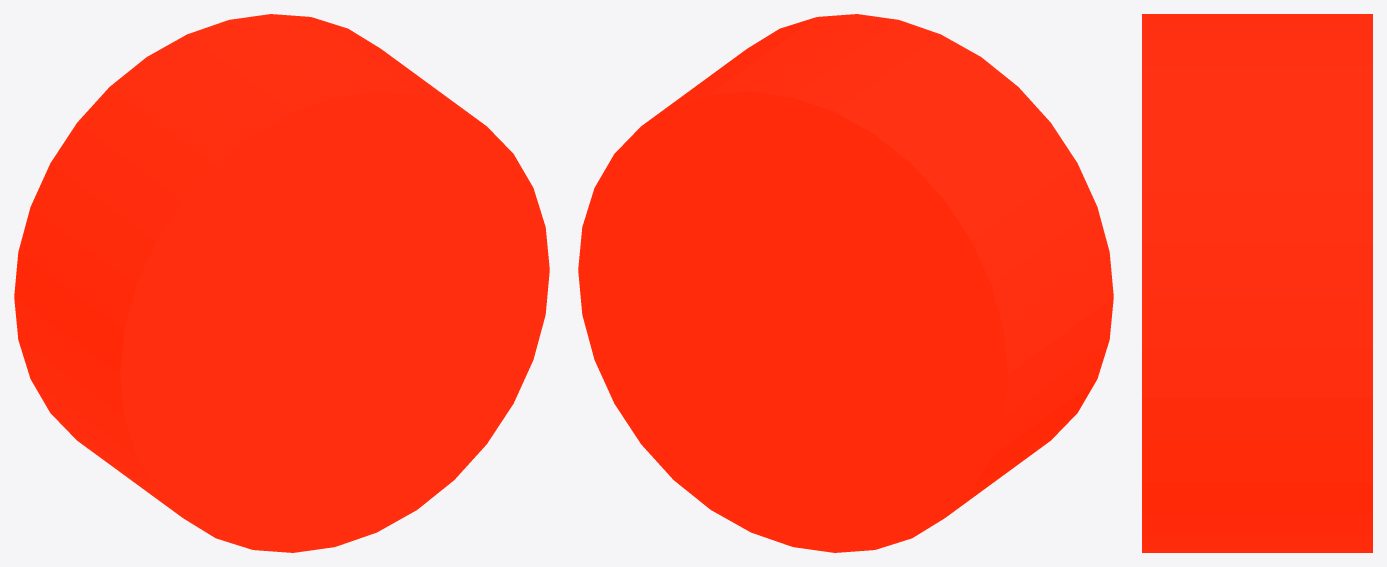
The model's file is Button.fbx.
3 views of the same model, side by side, from view 1: azimuth 30°, elevation 25°; view 2: azimuth 150°, elevation 25°; view 3: azimuth 270°, elevation 25° (orthographic). The views are drawn at different scales.
Parts seen in each view (by area): view 1: Button; view 2: Button; view 3: Button.
Boxes of the visible parts, box(x1,y1,x2,y2) form: Button: box(14, 14, 549, 552); Button: box(578, 14, 1113, 552); Button: box(1142, 14, 1372, 552).
Bounding box in the file's own units: 60.17 × 60.17 × 25.76.
